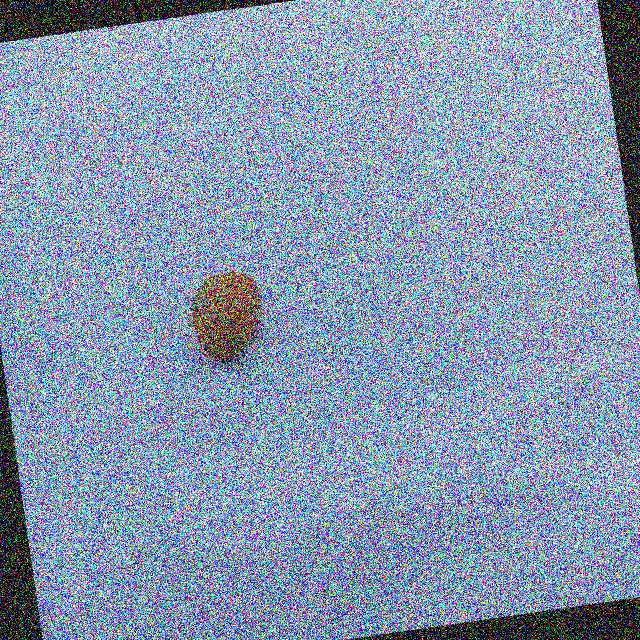grade2: (183, 265, 276, 371)
